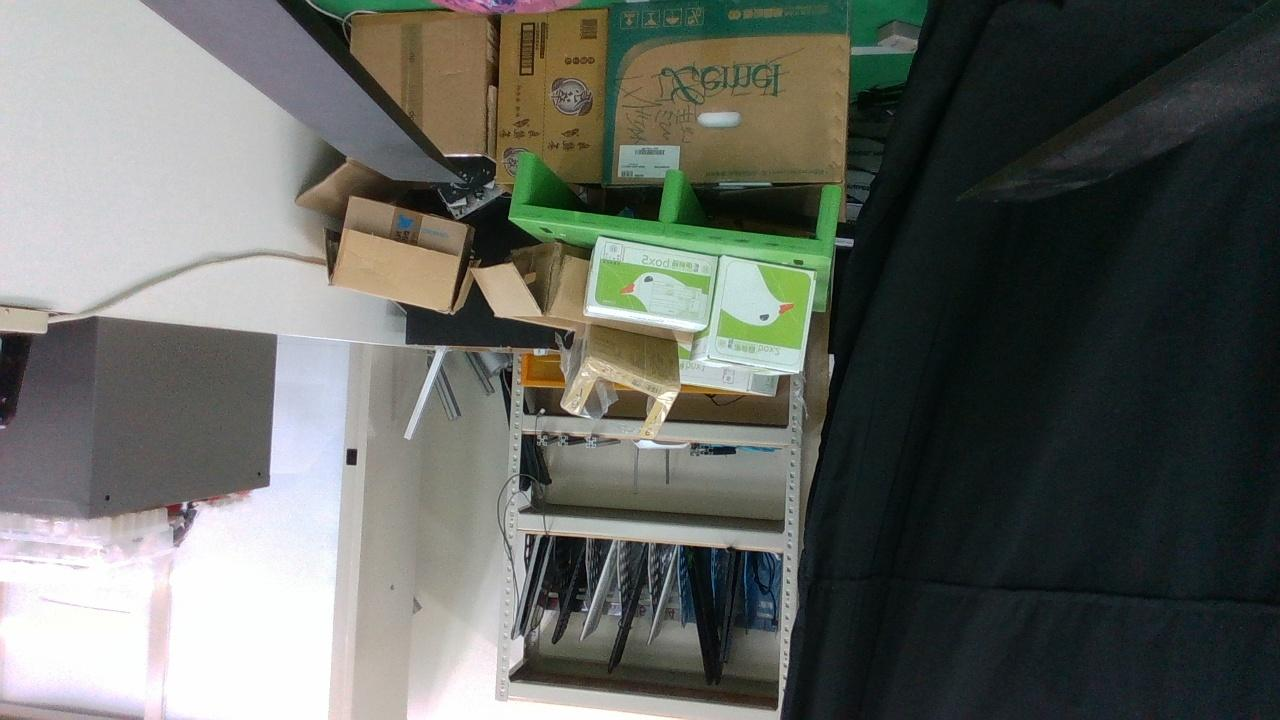Pallet: (507, 148, 842, 263)
